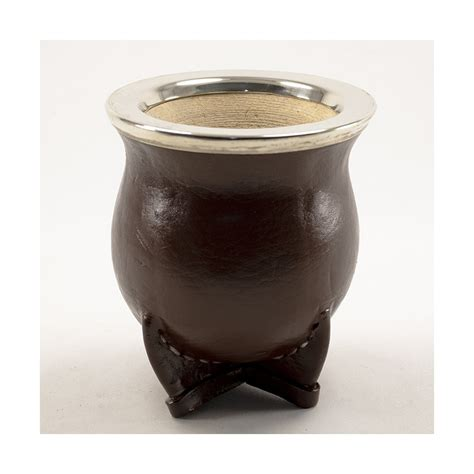cuero: (108, 125, 363, 419)
